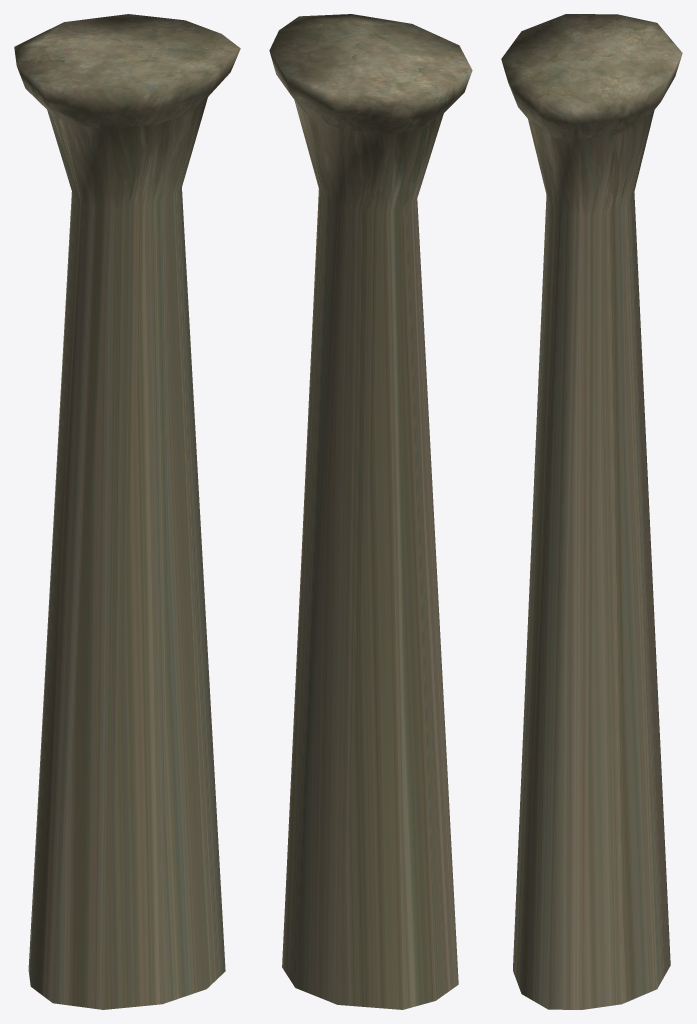
Rendered from INST_OH_RUINPILLAR_01.fbx.
3 views of the same model, side by side, from view 1: azimuth 30°, elevation 25°; view 2: azimuth 150°, elevation 25°; view 3: azimuth 270°, elevation 25° (orthographic).
Parts seen in each view (by area): view 1: INST_OH_RUINPILLAR_01; view 2: INST_OH_RUINPILLAR_01; view 3: INST_OH_RUINPILLAR_01.
Part boxes in pixels (x1,y1,x2,y2): INST_OH_RUINPILLAR_01: (14,14,240,1009); INST_OH_RUINPILLAR_01: (269,14,472,1009); INST_OH_RUINPILLAR_01: (501,14,682,1009).
Bounding box in the file's own units: 18337 × 86868 × 15572.
1 material, 1 textured.
